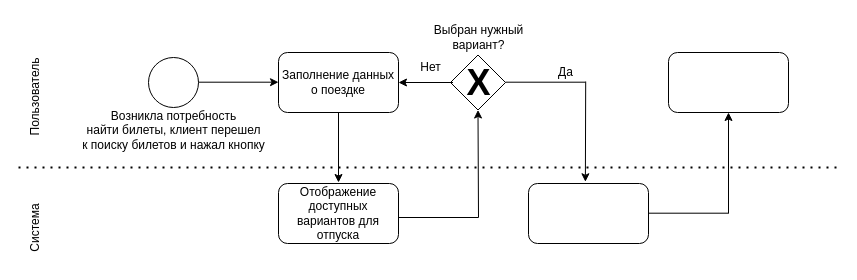
The diagram is 857 pixels wide and 280 high, and some of its shapes have lost their labels. Each missing label, with the centre of its shape:
"Отображение информации о билетах" belongs at (588,213).
"Переход к покупке билетов" belongs at (728,82).
